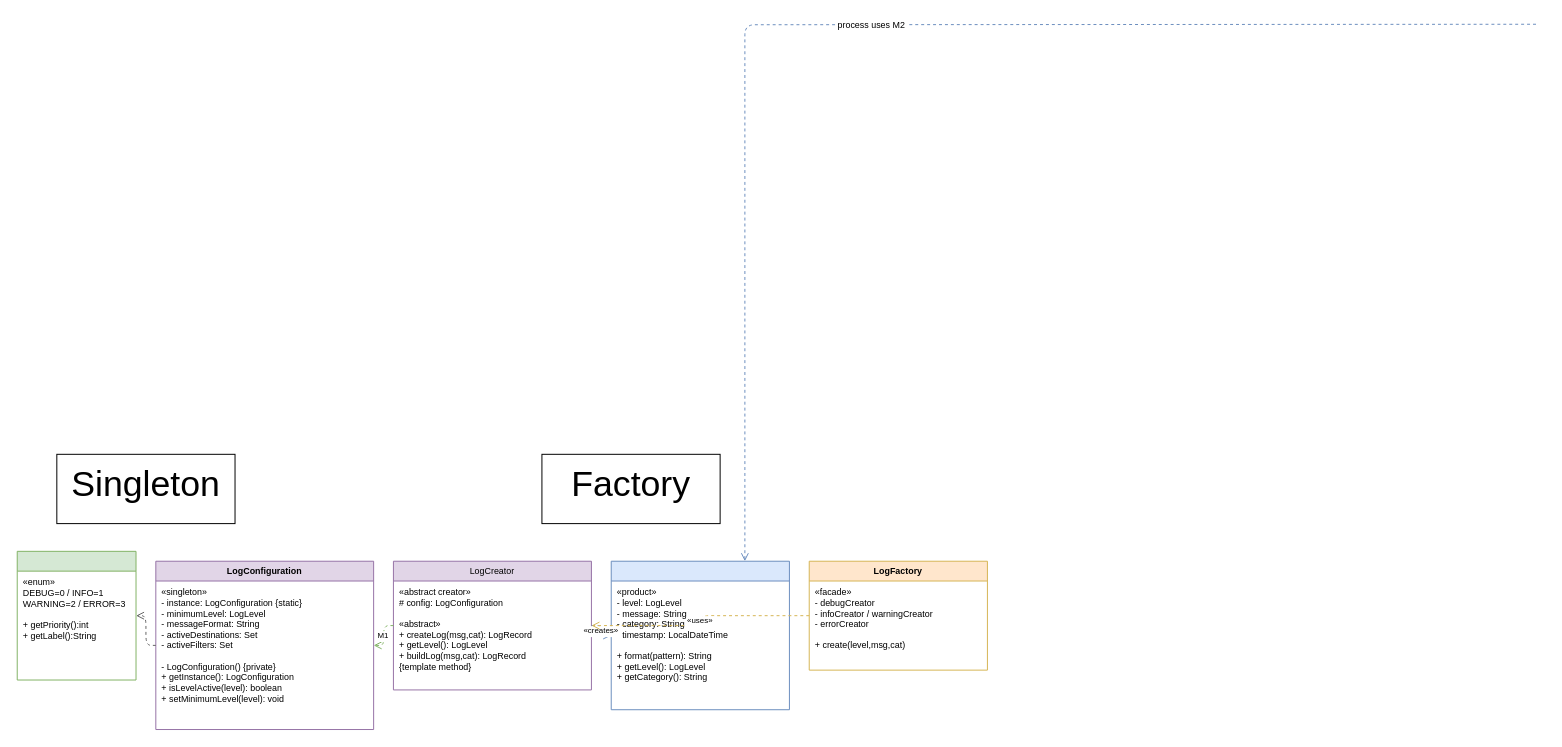
Image size: 1562x747. Some labels were removed from this diagram. The box of each missing label's shape, as (x1, y1, x2, y2) in pixels:
LogLevel: (16, 550, 136, 680)
LogRecord: (610, 560, 789, 710)
